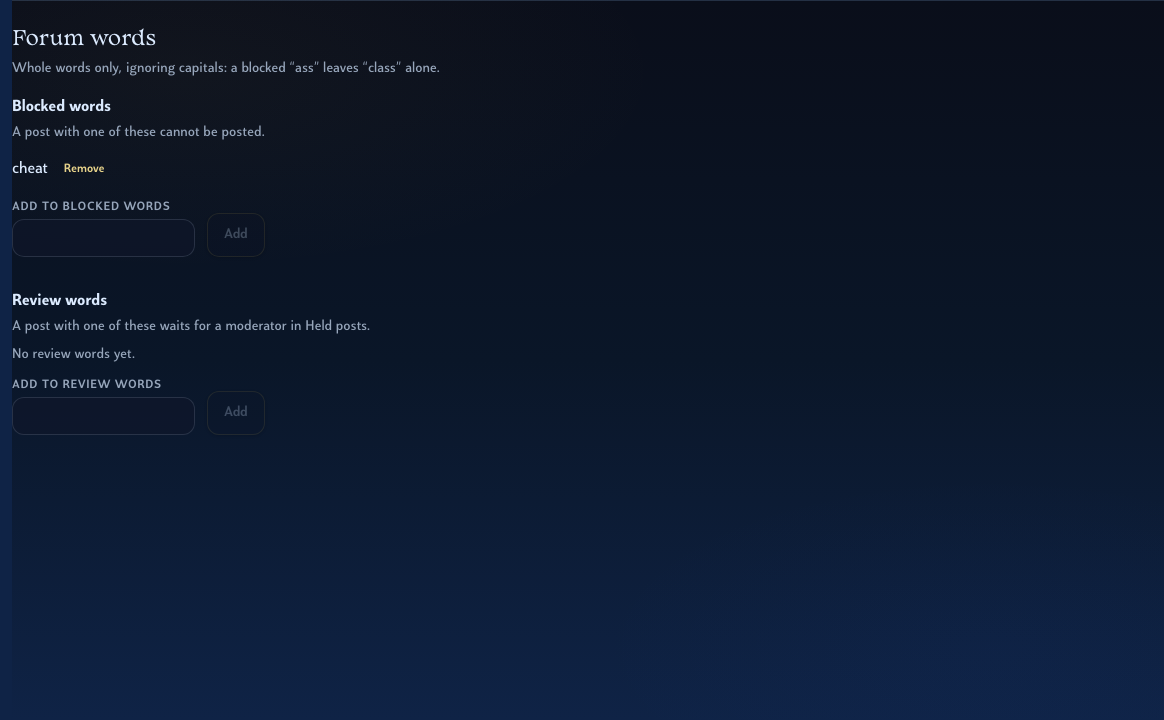
Test: StaffForumWords › adds a word to the review list and it appears there
In the field labelled "Add to review words": (104, 416) [12,397,195,435], type "Cheap Coins"
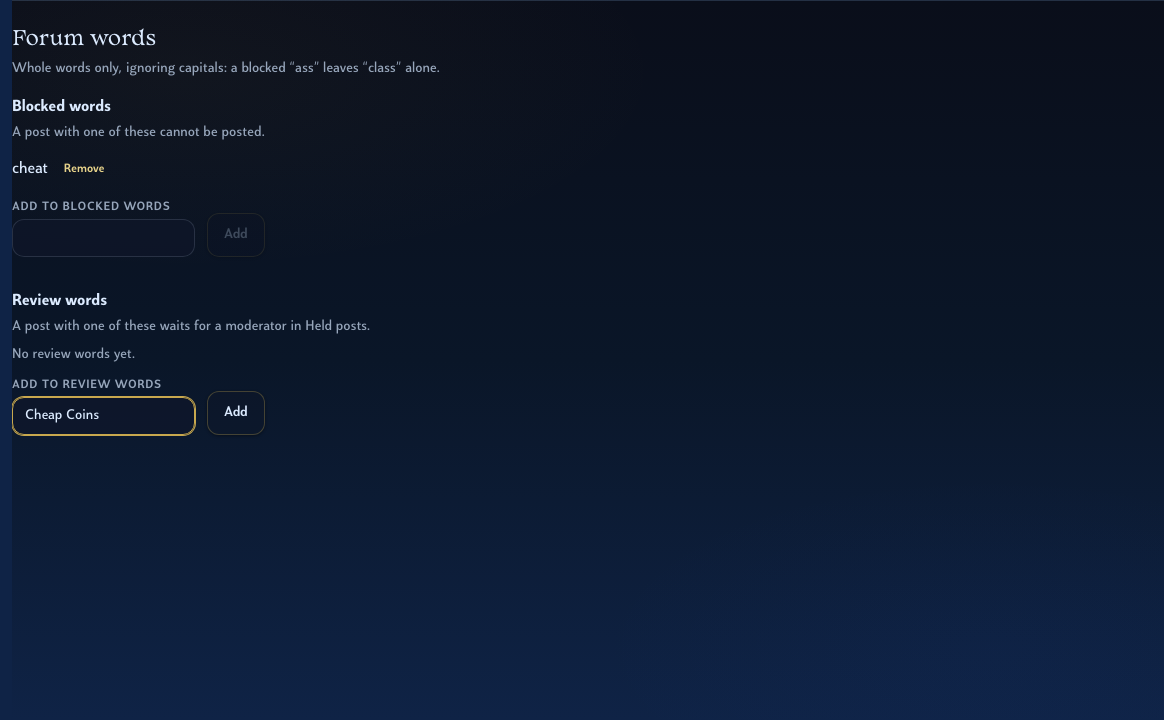
Click the button "Add" below "Add to review words": (236, 413) [207,391,265,435]
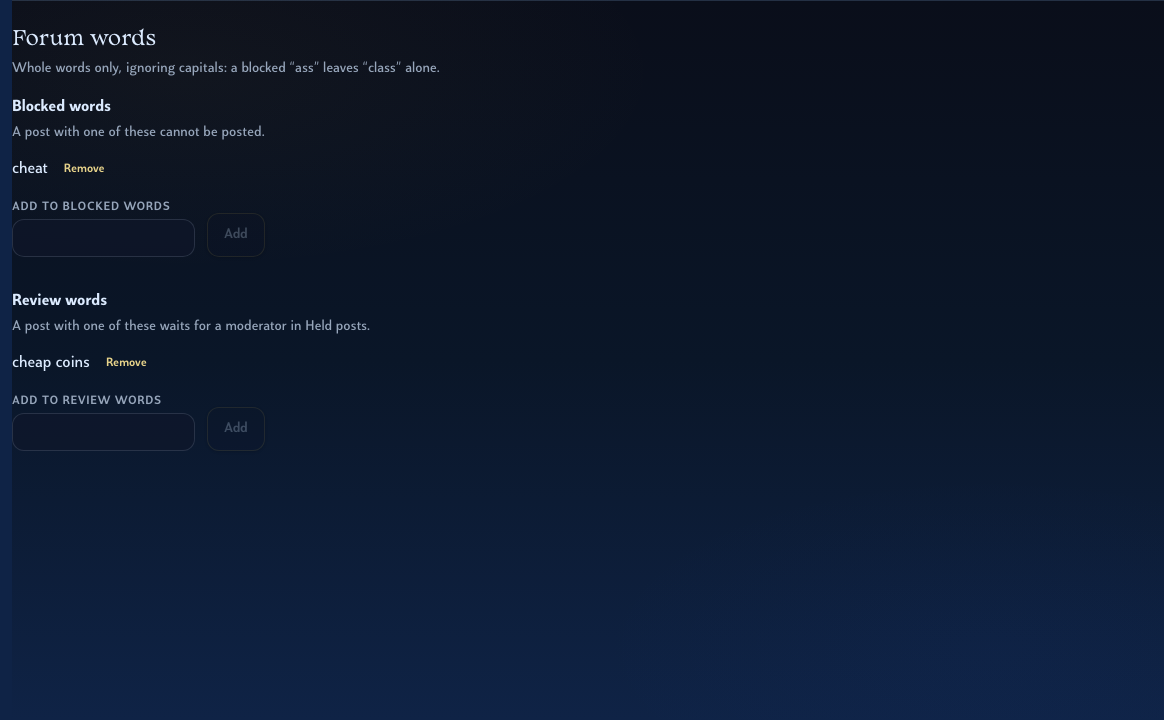
Now the text "cheap coins" is shown, box [12,351,90,375]
Now the field labelled "Add to review words" is empty, box [12,413,195,451]
